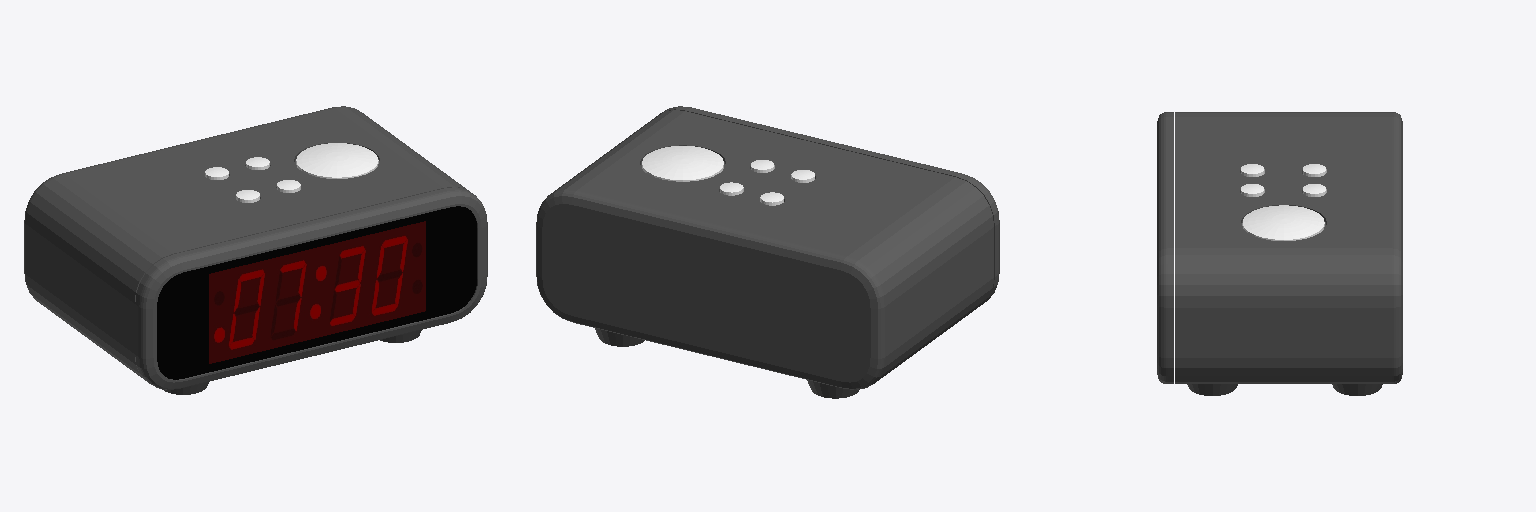
The picture shows the model from 3 angles: view 1: azimuth 30°, elevation 25°; view 2: azimuth 150°, elevation 25°; view 3: azimuth 270°, elevation 25°; orthographic projection.
Visible parts, largest first — view 1: clock; view 2: clock; view 3: clock.
Boxes of the visible parts, x1,y1,x2,y2 form: clock: [24, 106, 487, 394]; clock: [536, 106, 999, 398]; clock: [1157, 112, 1402, 395].
Bounding box in the file's own units: 2.01 × 0.8626 × 1.23.
4 materials, 1 textured.